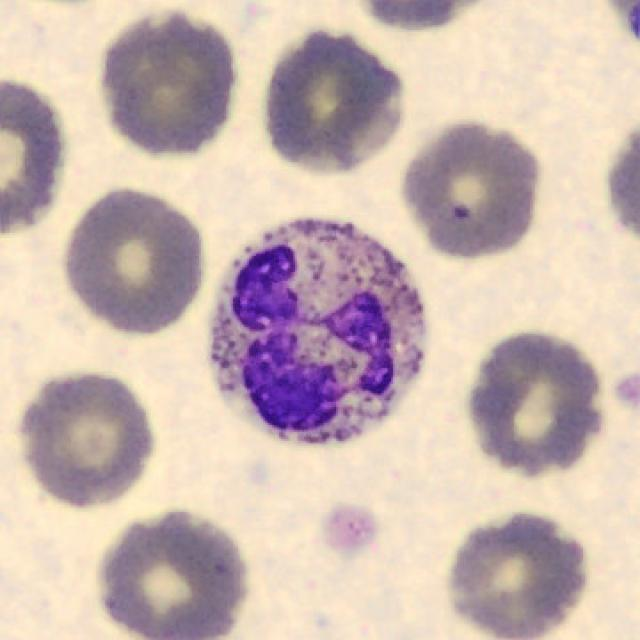Neutrofilo segmentado: (208, 220, 427, 446)
